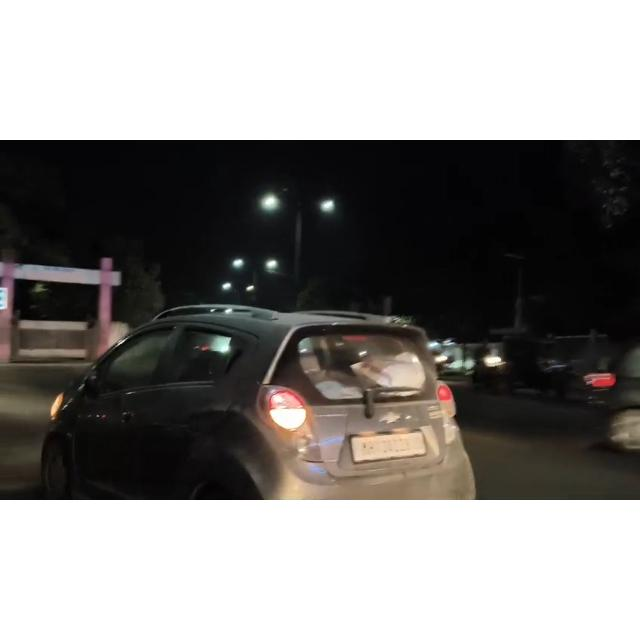auto: (500, 324, 578, 401)
car: (47, 303, 493, 501), (575, 329, 640, 459)
